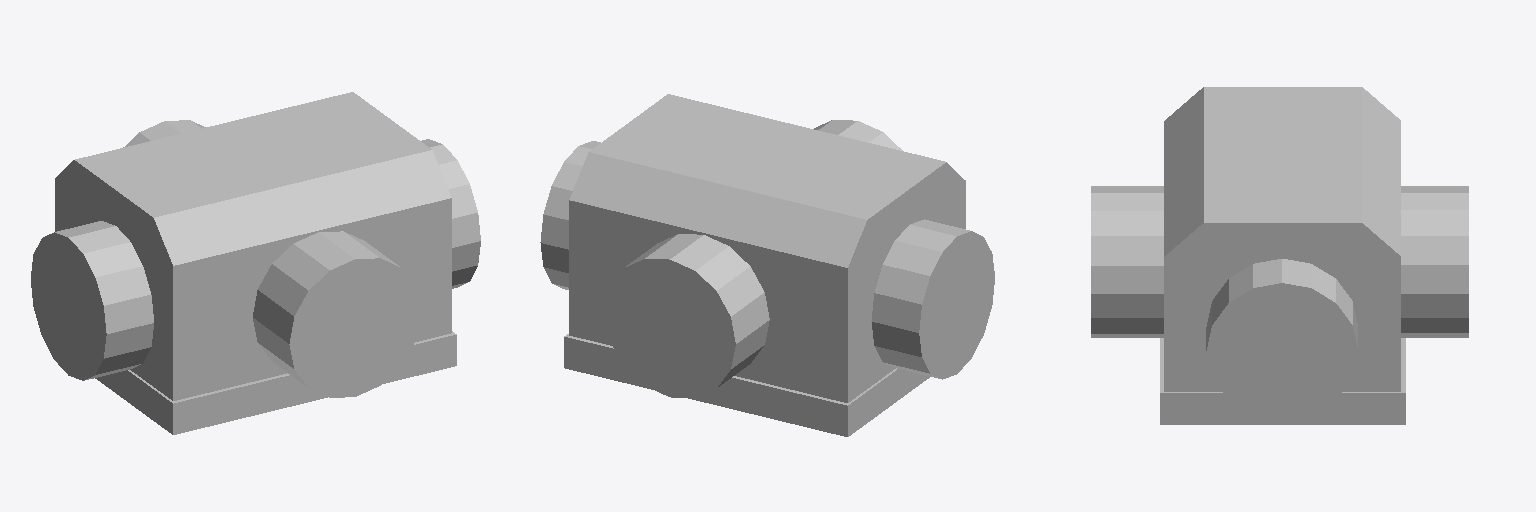
The model's file is MainOutMesh.obj.
3 views of the same model, side by side, from view 1: azimuth 30°, elevation 25°; view 2: azimuth 150°, elevation 25°; view 3: azimuth 270°, elevation 25° (orthographic).
Parts seen in each view (by area): view 1: Cube.020; view 2: Cube.020; view 3: Cube.020.
Boxes of the visible parts, <box> form: Cube.020: <box>31,92,480,434</box>; Cube.020: <box>540,94,994,436</box>; Cube.020: <box>1091,87,1468,424</box>.
Bounding box in the file's own units: 6.39 × 3.26 × 5.57.